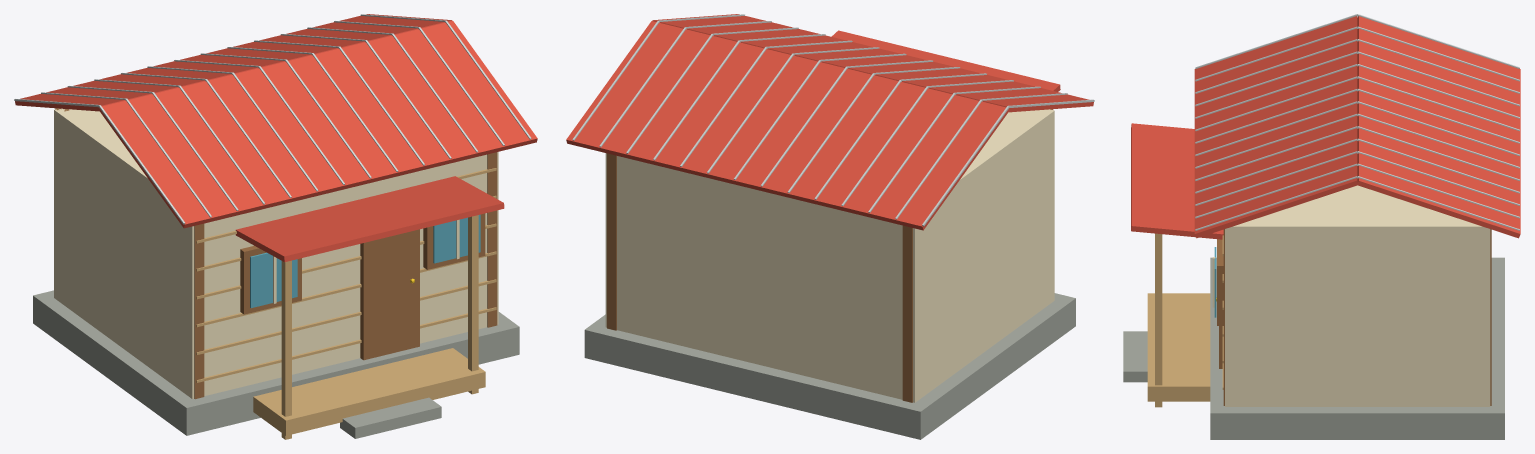
The model's file is TR3_Farmhouse_RedRoof.glb.
The picture shows the model from 3 angles, left to right: view 1: azimuth 30°, elevation 25°; view 2: azimuth 150°, elevation 25°; view 3: azimuth 270°, elevation 25°; orthographic projection. The views are drawn at different scales.
Parts seen in each view (by area): view 1: TR3_Farmhouse_RedRoof; view 2: TR3_Farmhouse_RedRoof; view 3: TR3_Farmhouse_RedRoof.
Boxes of the visible parts, box(x1,y1,x2,y2) form: TR3_Farmhouse_RedRoof: box(14, 14, 537, 439); TR3_Farmhouse_RedRoof: box(566, 14, 1094, 439); TR3_Farmhouse_RedRoof: box(1123, 14, 1520, 439).
Bounding box in the file's own units: 5.31 × 3.97 × 5.39.
